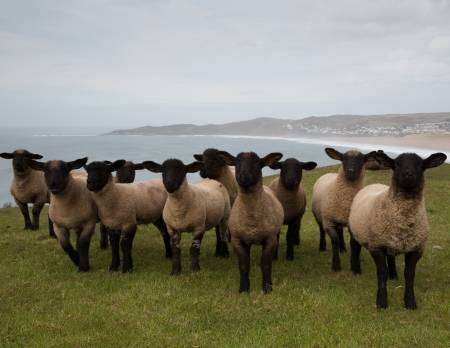sheep: (356, 151, 445, 316), (216, 147, 283, 296), (87, 153, 169, 272), (145, 156, 228, 265), (312, 135, 369, 274), (37, 155, 95, 274), (1, 144, 48, 233), (270, 150, 312, 229)
